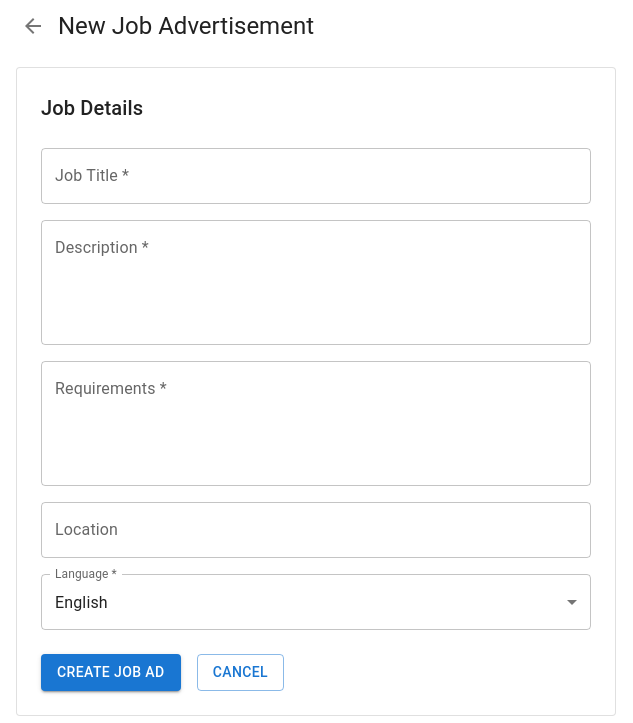
Test: JobAdFormPage › shows validation errors when required fields are missing
What coordinates should you click on to do the following:
click the button "Create Job Ad"
I would click on:
 (111, 672)
Its box is x1=41 y1=654 x2=181 y2=690.
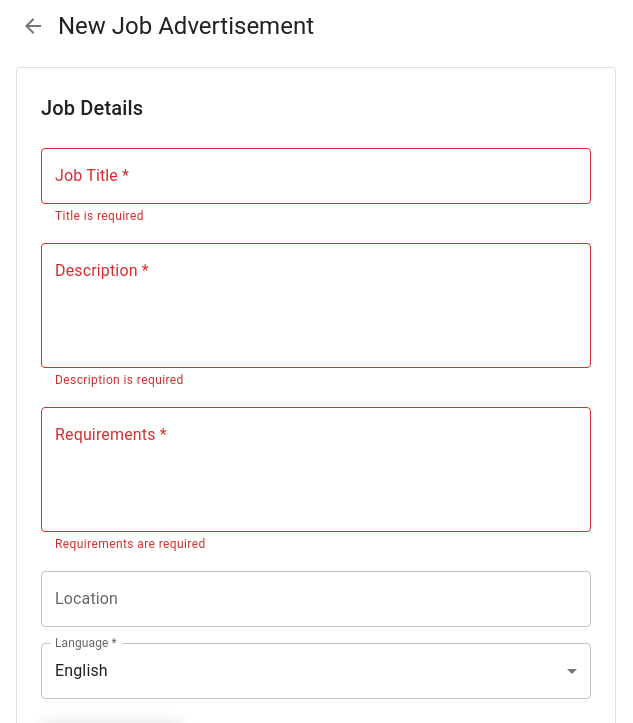
Check: the text "Title is required" is shown, box x1=55 y1=209 x2=144 y2=223
Check: the text "Description is required" is shown, box x1=55 y1=373 x2=184 y2=387
Check: the text "Requirements are required" is shown, box x1=55 y1=537 x2=206 y2=551
